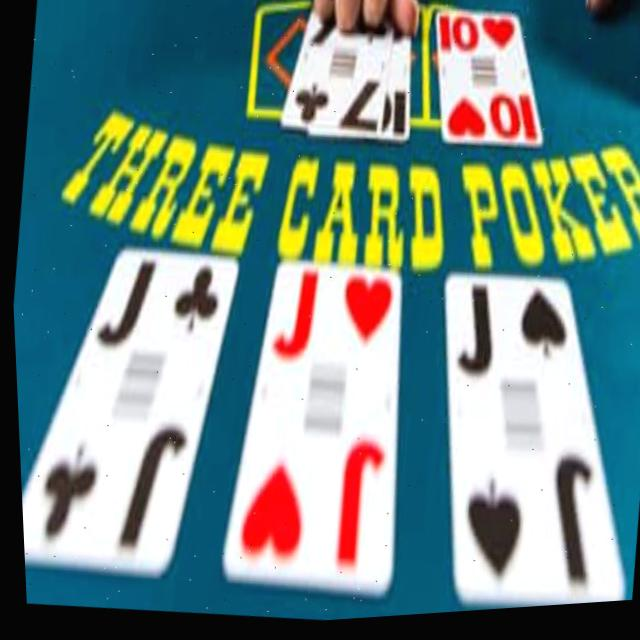Card-10: (434, 18, 540, 148), (377, 23, 411, 141)
Card-7: (278, 8, 391, 141)
Card-J: (18, 242, 236, 580), (218, 264, 397, 591), (444, 279, 617, 608)
